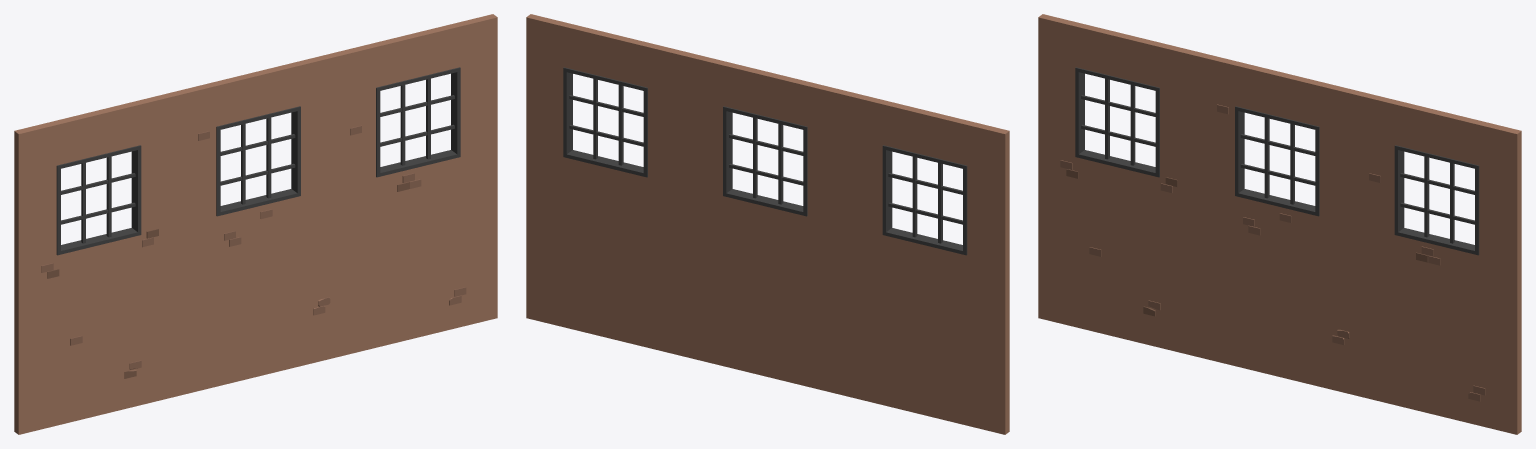
Rendered from Wall_02.fbx.
The picture shows the model from 3 angles, left to right: view 1: azimuth 30°, elevation 25°; view 2: azimuth 150°, elevation 25°; view 3: azimuth 330°, elevation 25°; orthographic projection.
Parts seen in each view (by area): view 1: Wall_02; view 2: Wall_02; view 3: Wall_02.
Boxes of the visible parts, left/top/right/bottom form: Wall_02: left=14, top=14, right=497, bottom=434; Wall_02: left=526, top=14, right=1009, bottom=434; Wall_02: left=1038, top=14, right=1521, bottom=434.
Bounding box in the file's own units: 1500 × 900 × 33.61.
